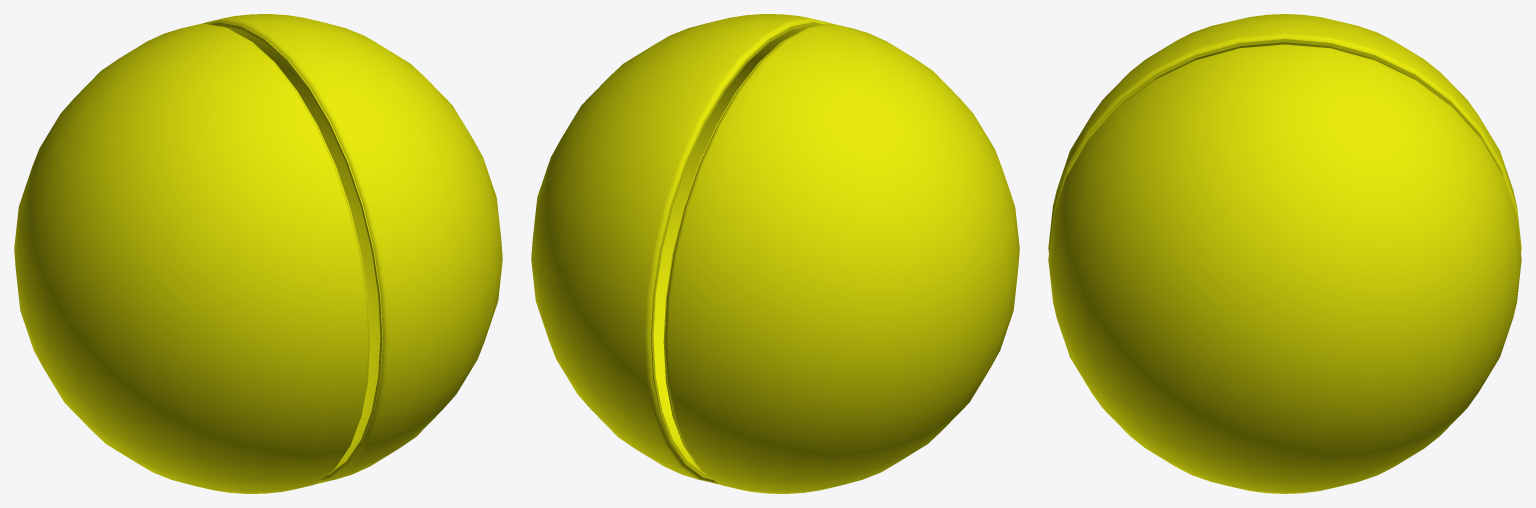
File: ballsGe.fbx
3 renders of one model, left to right at view 1: azimuth 30°, elevation 25°; view 2: azimuth 150°, elevation 25°; view 3: azimuth 270°, elevation 25°, orthographic.
Parts seen in each view (by area): view 1: Sphere.005, Sphere.006; view 2: Sphere.005, Sphere.006; view 3: Sphere.006, Sphere.005.
Part boxes in pixels (<box>): Sphere.005: <box>14,23,370,493</box>; Sphere.006: <box>202,14,502,484</box>; Sphere.005: <box>663,23,1019,493</box>; Sphere.006: <box>531,14,831,484</box>; Sphere.006: <box>1048,44,1521,493</box>; Sphere.005: <box>1048,14,1521,252</box>.
Size of the model in its own units: 214 by 207 by 207.
